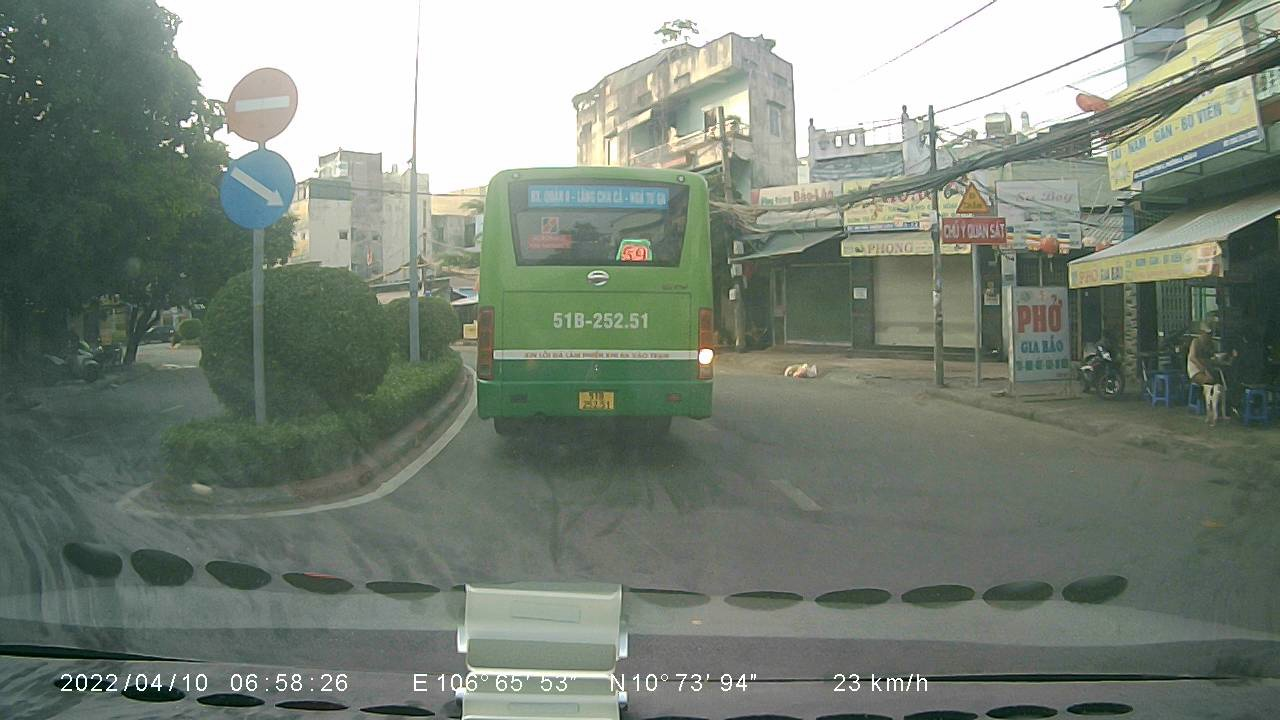Bien khac: (954, 180, 991, 213)
Cam di nguoc chieu: (222, 69, 302, 142)
Huong di phai re phai: (218, 148, 300, 229)
